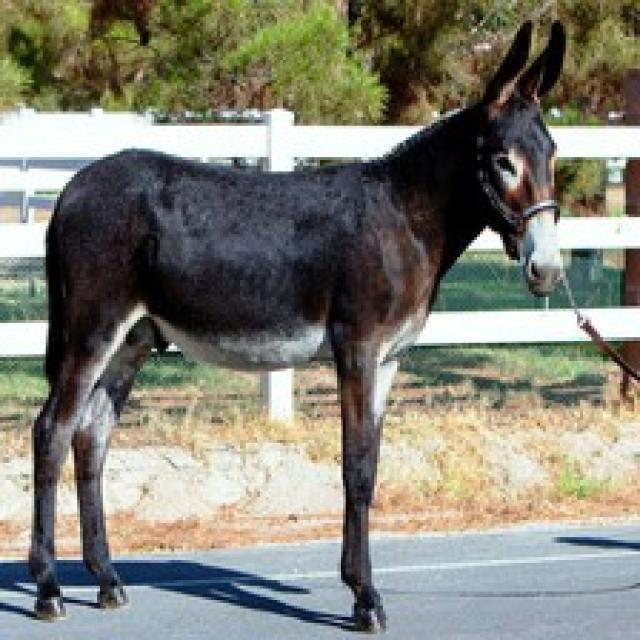Donkey: (0, 11, 615, 640)
